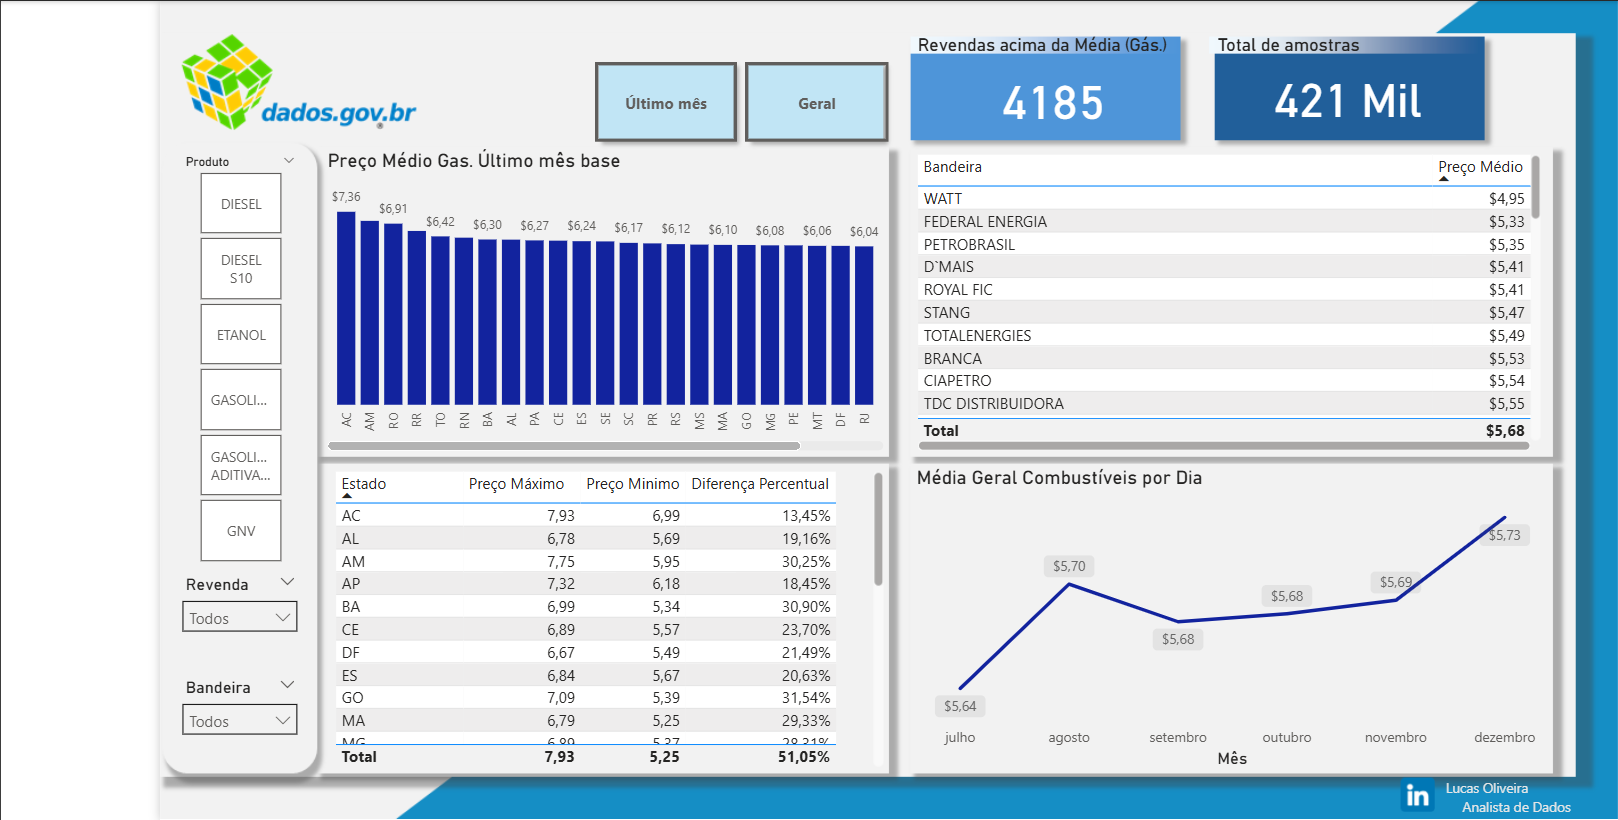

The page's visual inventory and layout, read from the dashboard file:
{"tool":"powerbi","page":{"name":"Análise de combustiveis","canvas":[1280,720],"ordinal":0},"visuals":[{"type":"clusteredColumnChart","title":"Preço Médio Gas. Último mês base ","fields":{"Category":["dEstados.Estado - Sigla"],"Y":["Medidas.Preço Médio Gas"]},"box":[142.2,130,497.9,269.6],"z":0},{"type":"card","title":"Revendas acima da Média (Gás.)","fields":{"Values":["Medidas.Revendas acima da média"]},"box":[660.2,28.6,248.6,94.1],"z":1000},{"type":"tableEx","fields":{"Values":["dBandeiras.Bandeira","Medidas.Média Geral Combustiveis"]},"box":[659.4,130,557.6,270.4],"z":2000},{"type":"tableEx","fields":{"Values":["dEstados.Estado - Sigla","Max(fPrecos.Valor de Venda)","Min(fPrecos.Valor de Venda)1","Medidas.Dif Percent Diesel"]},"box":[148.8,408.2,491.8,269.3],"z":3000},{"type":"lineChart","title":"Média Geral Combustíveis por Dia","fields":{"Category":["fPrecos.Data da Coleta.Variation.Hierarquia de datas.Ano","fPrecos.Data da Coleta.Variation.Hierarquia de datas.Trimestre","fPrecos.Data da Coleta.Variation.Hierarquia de datas.Mês","fPrecos.Data da Coleta.Variation.Hierarquia de datas.Dia"],"Y":["Medidas.Média Geral Combustiveis"]},"box":[659.4,408.3,564.6,269.6],"z":4000},{"type":"slicer","fields":{"Values":["dProdutos.Produto"]},"box":[9.7,130,121.2,368.8],"z":5000},{"type":"card","title":"Total de amostras","fields":{"Values":["Medidas.Total Amostras"]},"box":[923.9,28.6,238.5,90.7],"z":6000},{"type":"slicer","fields":{"Values":["dRevenda.Revenda"]},"box":[9.7,498.7,121.2,90.4],"z":7000},{"type":"slicer","fields":{"Values":["dBandeiras.Bandeira"]},"box":[9.7,589.2,121.2,82.5],"z":8000},{"type":"actionButton","box":[382,53.6,124.7,70.2],"z":10000},{"type":"actionButton","box":[513.7,53.6,126.4,70.2],"z":11000},{"type":"textbox","box":[1123.9,676.1,136.1,43.9],"z":12000},{"type":"actionButton","box":[1085.7,677.5,38.3,38.3],"z":12001}]}

Visuals, with their boxes on the page's 1280x720 design canvas (x1, y1, x2, y2). These are canvas units, not pixel positions in the 1618x820 screenshot, which may show the page scaled, cropped or inside an application window:
"Preço Médio Gas. Último mês base " clusteredColumnChart: [left=142, top=130, right=640, bottom=400]
"Revendas acima da Média (Gás.)" card: [left=660, top=29, right=909, bottom=123]
tableEx - dBandeiras.Bandeira x Medidas.Média Geral Combustiveis: [left=659, top=130, right=1217, bottom=400]
tableEx - dEstados.Estado - Sigla x Max(fPrecos.Valor de Venda): [left=149, top=408, right=641, bottom=678]
"Média Geral Combustíveis por Dia" lineChart: [left=659, top=408, right=1224, bottom=678]
slicer - dProdutos.Produto: [left=10, top=130, right=131, bottom=499]
"Total de amostras" card: [left=924, top=29, right=1162, bottom=119]
slicer - dRevenda.Revenda: [left=10, top=499, right=131, bottom=589]
slicer - dBandeiras.Bandeira: [left=10, top=589, right=131, bottom=672]
actionButton: [left=382, top=54, right=507, bottom=124]
actionButton: [left=514, top=54, right=640, bottom=124]
textbox: [left=1124, top=676, right=1260, bottom=720]
actionButton: [left=1086, top=678, right=1124, bottom=716]
